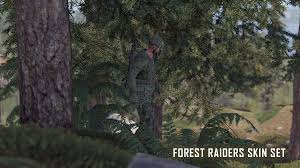tree: (15, 1, 71, 139), (282, 22, 300, 154), (153, 101, 166, 140)
